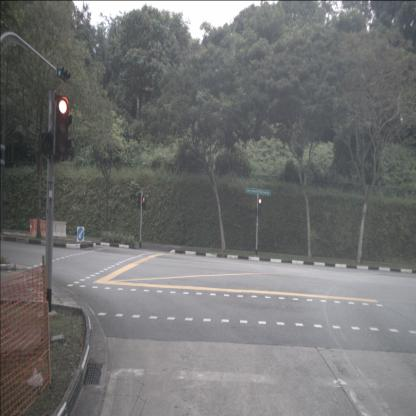movable_object-barrier: (32, 219, 48, 237), (50, 220, 66, 237), (29, 218, 43, 235)
